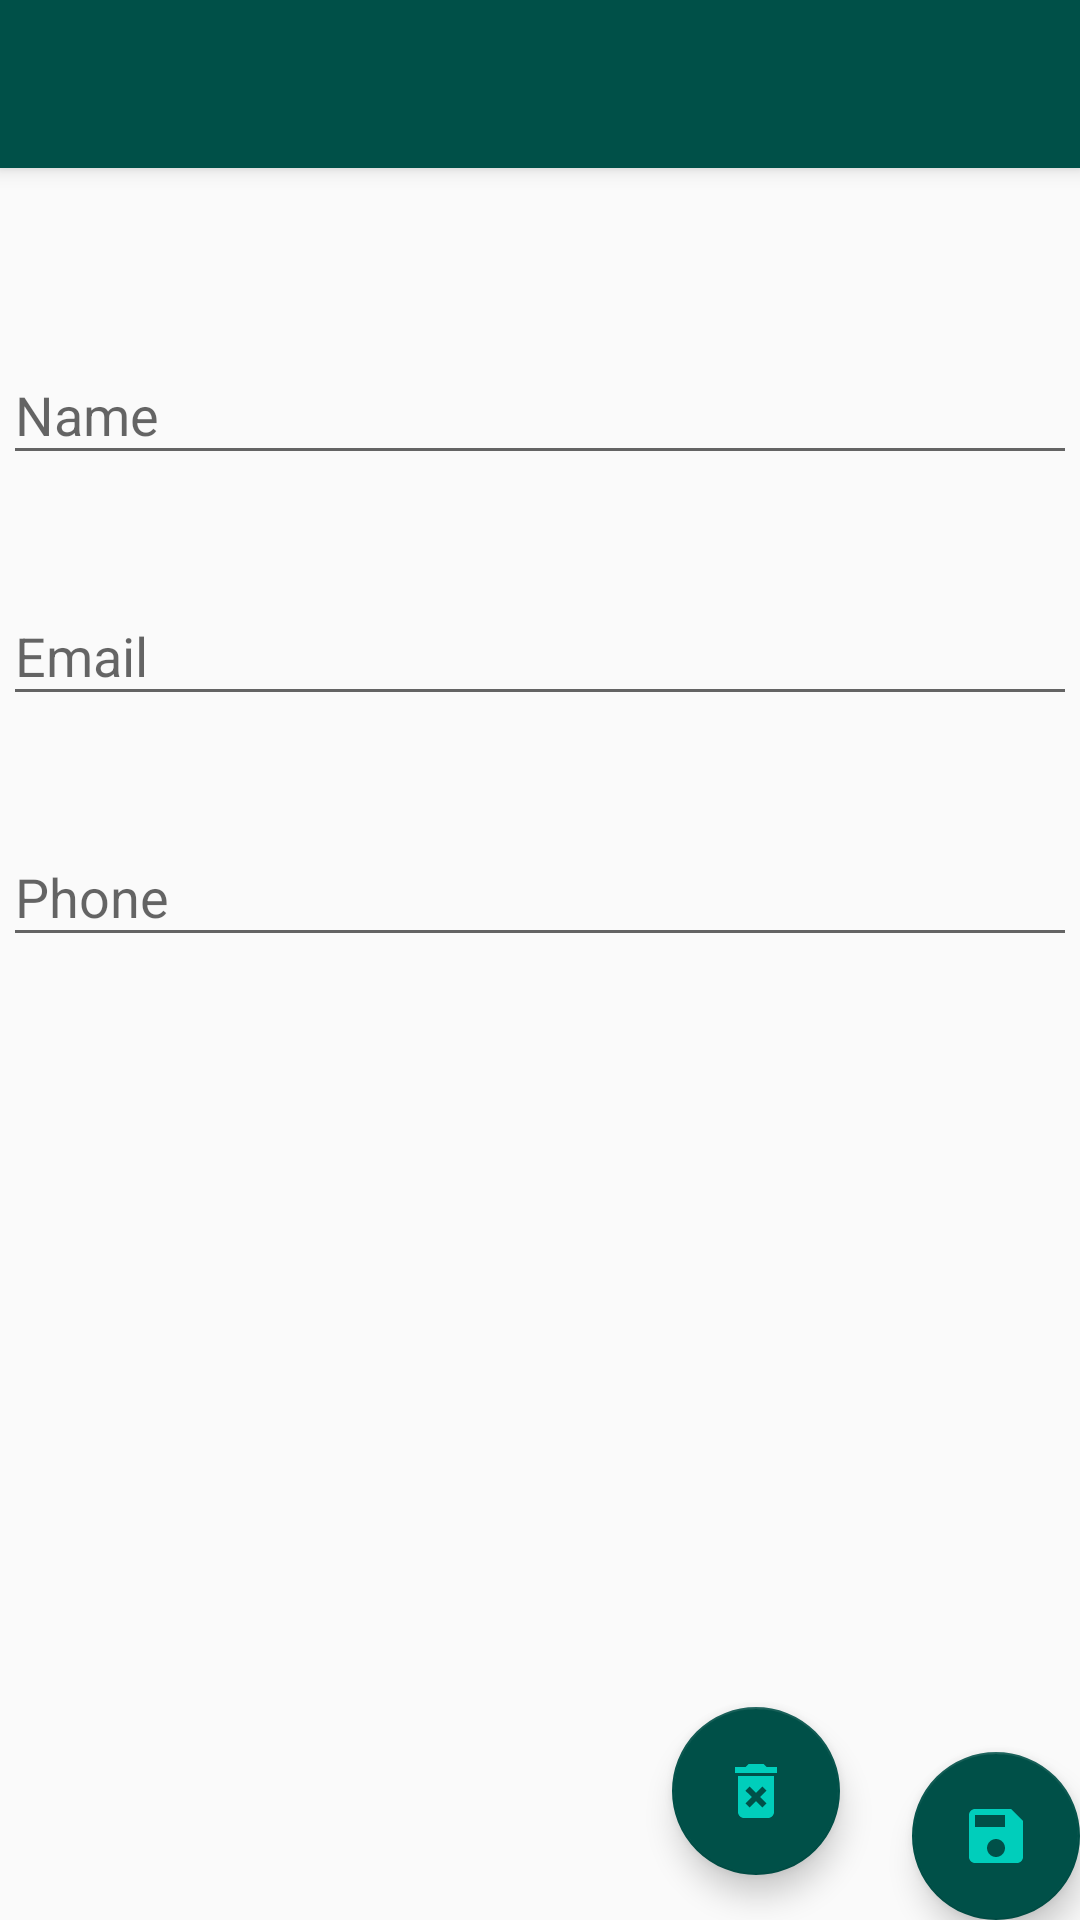

Where to tap for icons on this 1080px x 1920px app screen, as point (x, y):
delete forever: point (756, 1791)
save: point (996, 1836)
